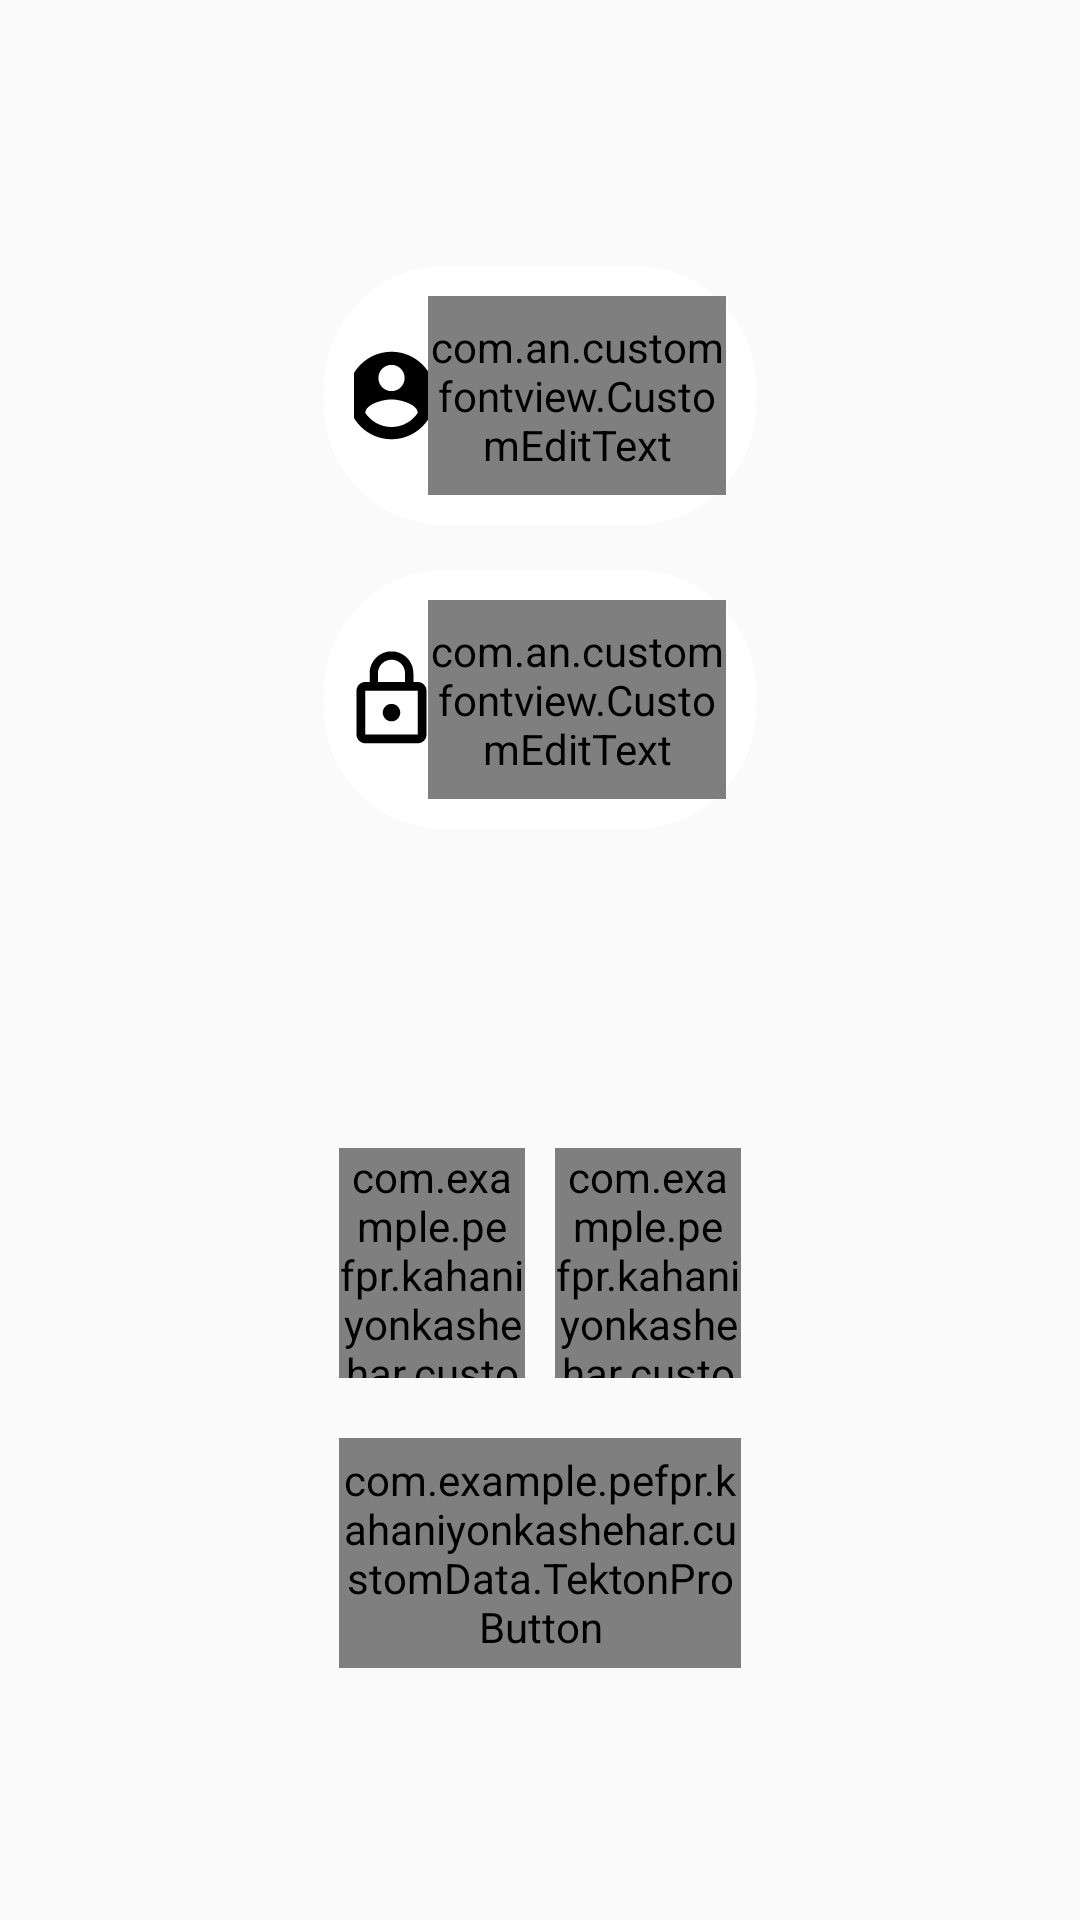

Icons on this 1080*1920 Android screen, each with its box as (x1, y1, x2, y2):
account circle: (354, 351, 428, 440)
lock: (356, 651, 427, 744)
